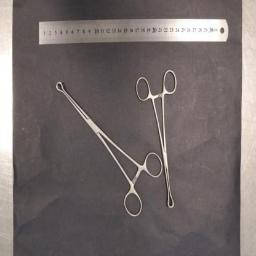Babcock Tissue Forceps: (137, 71, 177, 207)
